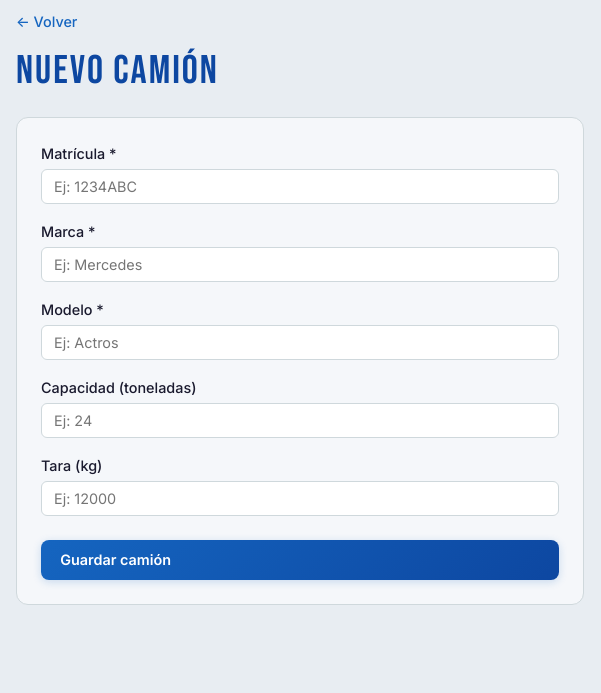
CamionFormPage › clears field error when user starts typing
Click the button "Guardar camión" at [116, 559], box [41,540,559,580]
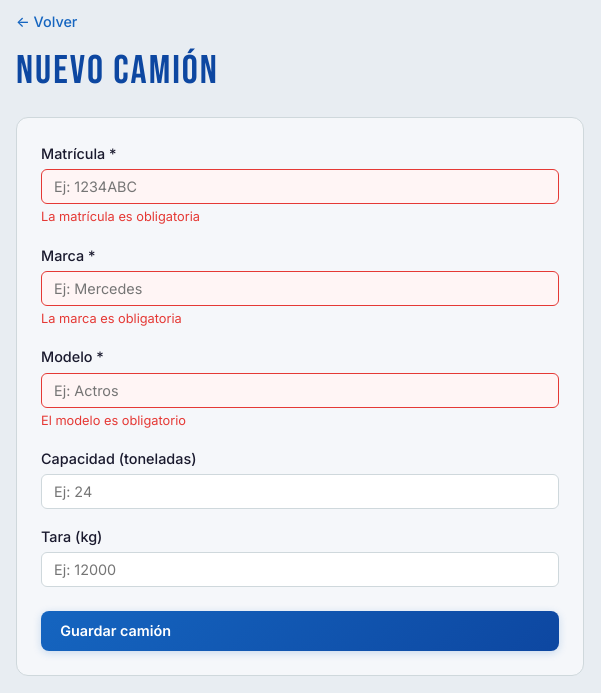
expect the text "La matrícula es obligatoria" is shown: met, box [41,209,200,224]
Type "A" into the field with placeholder "Ej: 1234ABC" at [300, 187], box [41,169,559,204]
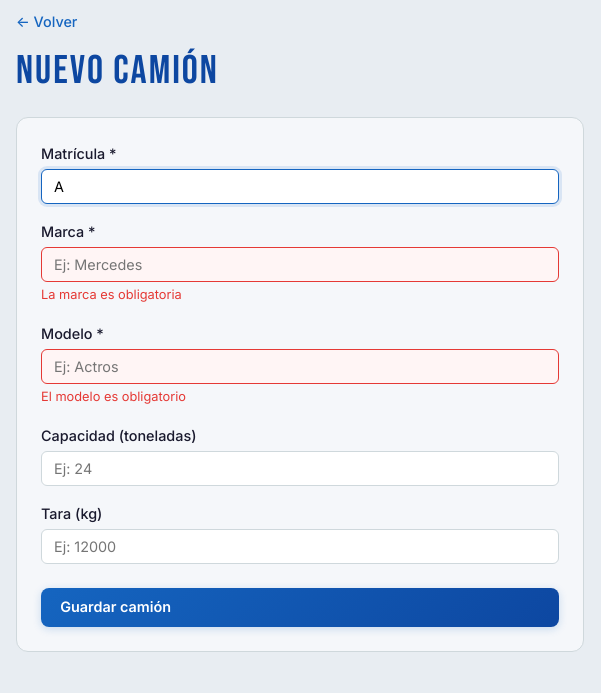
expect the text "La matrícula es obligatoria" is gone: met
